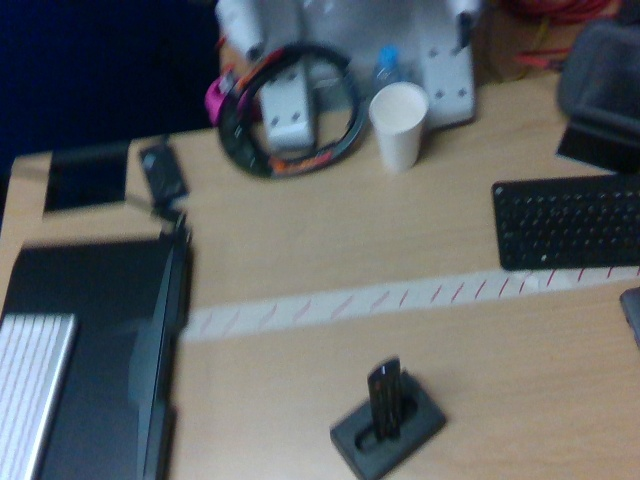remote: (365, 355, 405, 440)
